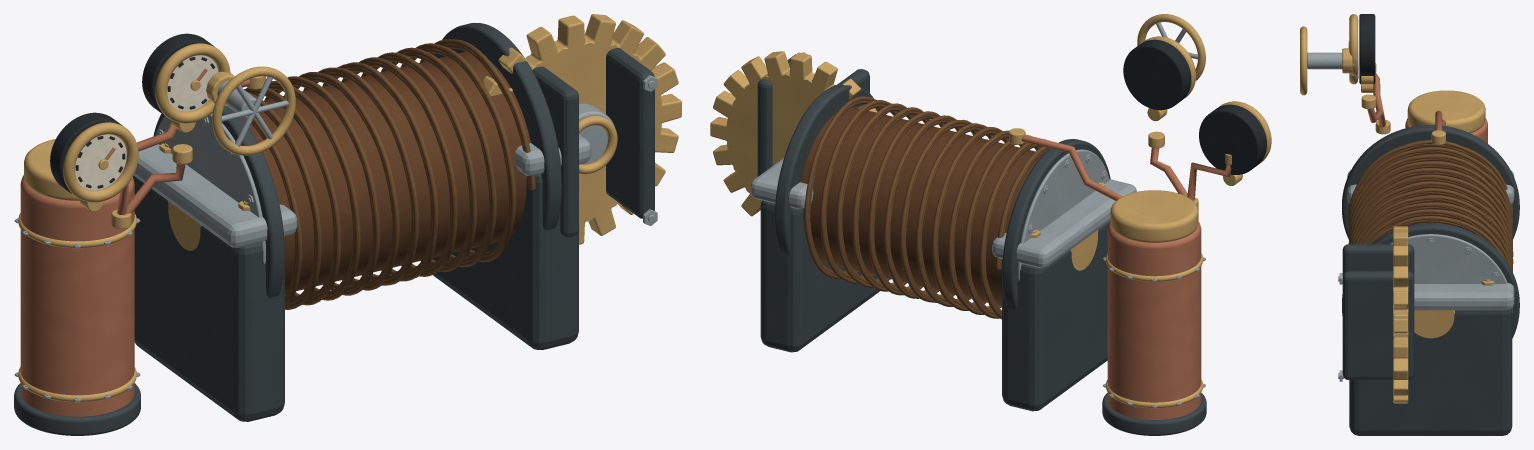
File: MachineryDetails.glb
3 renders of one model, left to right at view 1: azimuth 30°, elevation 25°; view 2: azimuth 150°, elevation 25°; view 3: azimuth 270°, elevation 25°, orthographic. The views are drawn at different scales.
Parts seen in each view (by area): view 1: MachineryDetails_Forged_charcoal_iron, MachineryDetails_Oiled_walnut_hardwood, MachineryDetails_Twisted_hemp_rope, MachineryDetails_Aged_machined_brass, MachineryDetails_Aged_copper_pipework, MachineryDetails_Machined_satin_steel, MachineryDetails_Warm_ivory_gauge_enamel, MachineryDetails_Blackened_steel; view 2: MachineryDetails_Forged_charcoal_iron, MachineryDetails_Oiled_walnut_hardwood, MachineryDetails_Twisted_hemp_rope, MachineryDetails_Aged_machined_brass, MachineryDetails_Aged_copper_pipework, MachineryDetails_Machined_satin_steel, MachineryDetails_Blackened_steel; view 3: MachineryDetails_Forged_charcoal_iron, MachineryDetails_Twisted_hemp_rope, MachineryDetails_Aged_machined_brass, MachineryDetails_Machined_satin_steel, MachineryDetails_Blackened_steel, MachineryDetails_Aged_copper_pipework, MachineryDetails_Oiled_walnut_hardwood.
Boxes of the visible parts, box(x1,y1,x2,y2) form: MachineryDetails_Forged_charcoal_iron: box(14, 23, 654, 435); MachineryDetails_Oiled_walnut_hardwood: box(242, 51, 530, 293); MachineryDetails_Twisted_hemp_rope: box(244, 39, 535, 309); MachineryDetails_Aged_machined_brass: box(18, 14, 681, 402); MachineryDetails_Aged_copper_pipework: box(20, 68, 250, 416); MachineryDetails_Machined_satin_steel: box(14, 75, 657, 401); MachineryDetails_Warm_ivory_gauge_enamel: box(75, 55, 218, 190); MachineryDetails_Blackened_steel: box(50, 33, 214, 193); MachineryDetails_Forged_charcoal_iron: box(757, 54, 1206, 435); MachineryDetails_Oiled_walnut_hardwood: box(800, 107, 1042, 305); MachineryDetails_Twisted_hemp_rope: box(804, 96, 1049, 319); MachineryDetails_Aged_machined_brass: box(710, 14, 1271, 408); MachineryDetails_Aged_copper_pipework: box(1021, 134, 1231, 419); MachineryDetails_Machined_satin_steel: box(750, 22, 1205, 407); MachineryDetails_Blackened_steel: box(1123, 39, 1266, 174); MachineryDetails_Forged_charcoal_iron: box(1342, 125, 1519, 435); MachineryDetails_Twisted_hemp_rope: box(1348, 140, 1513, 272); MachineryDetails_Aged_machined_brass: box(1300, 14, 1494, 403); MachineryDetails_Machined_satin_steel: box(1307, 52, 1514, 381); MachineryDetails_Blackened_steel: box(1359, 14, 1375, 84); MachineryDetails_Aged_copper_pipework: box(1367, 73, 1487, 143); MachineryDetails_Oiled_walnut_hardwood: box(1403, 147, 1460, 224).
Size of the model in its own units: 6.81 by 4.03 by 2.77.
8 materials, 8 textured.
